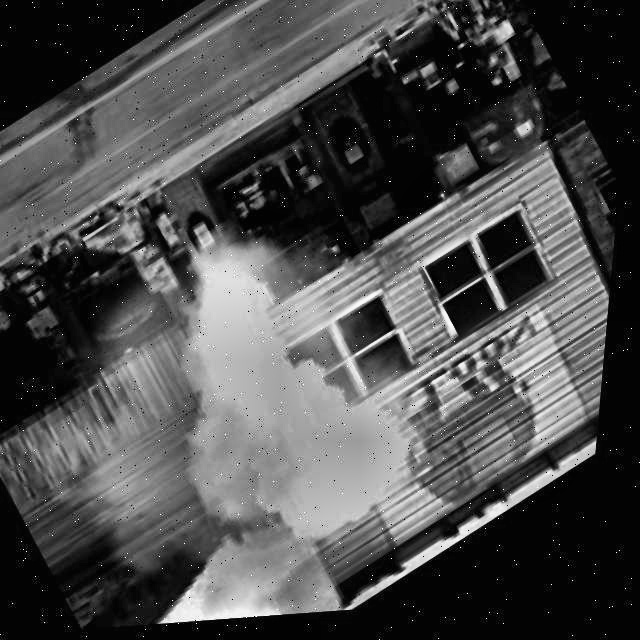Smoke: (0, 134, 511, 631)
